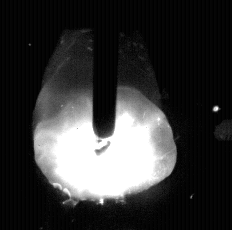arame: (93, 0, 117, 138)
poca: (34, 0, 176, 230)
